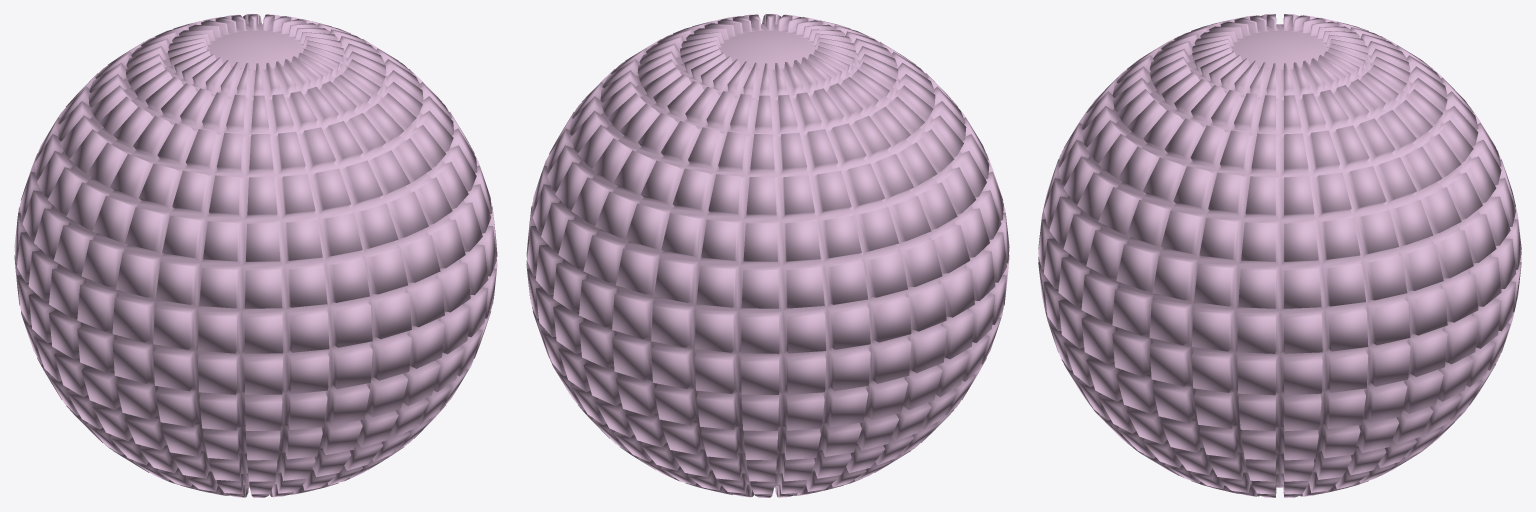
Rendered from squares_light_purple.glb.
The picture shows the model from 3 angles, left to right: view 1: azimuth 30°, elevation 25°; view 2: azimuth 150°, elevation 25°; view 3: azimuth 270°, elevation 25°; orthographic projection.
Parts seen in each view (by area): view 1: Sphere.031; view 2: Sphere.031; view 3: Sphere.031.
Part boxes in pixels (<box>): Sphere.031: <box>14,14,497,497</box>; Sphere.031: <box>526,14,1009,497</box>; Sphere.031: <box>1038,14,1521,497</box>.
Size of the model in its own units: 2.08 by 2.04 by 2.08.
